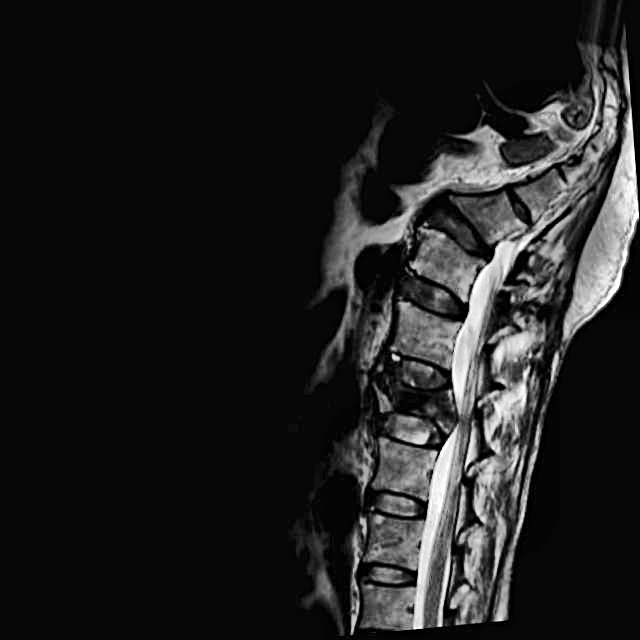Comminuted: (351, 343, 470, 472)
